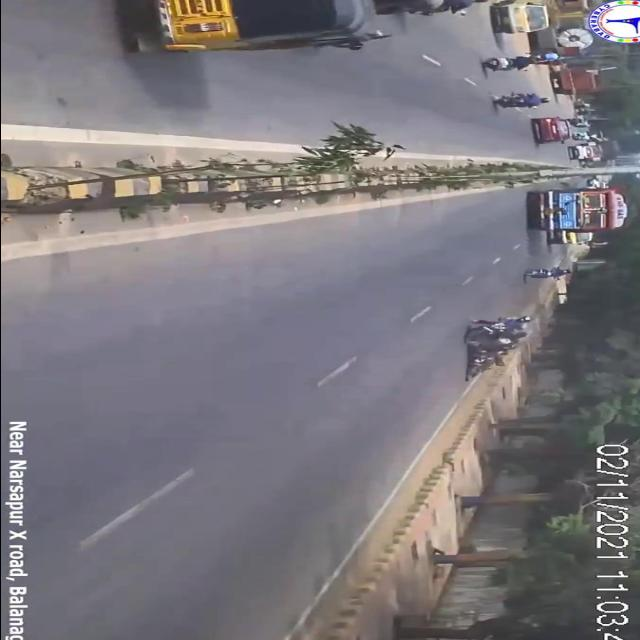accident: (449, 308, 545, 384)
non_accident: (519, 181, 633, 250), (552, 136, 628, 168)
